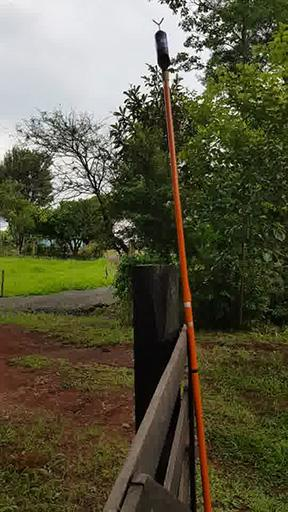Detector_Tensao_Contato: (150, 17, 171, 70)
Vara_Manobra: (158, 68, 212, 512)
